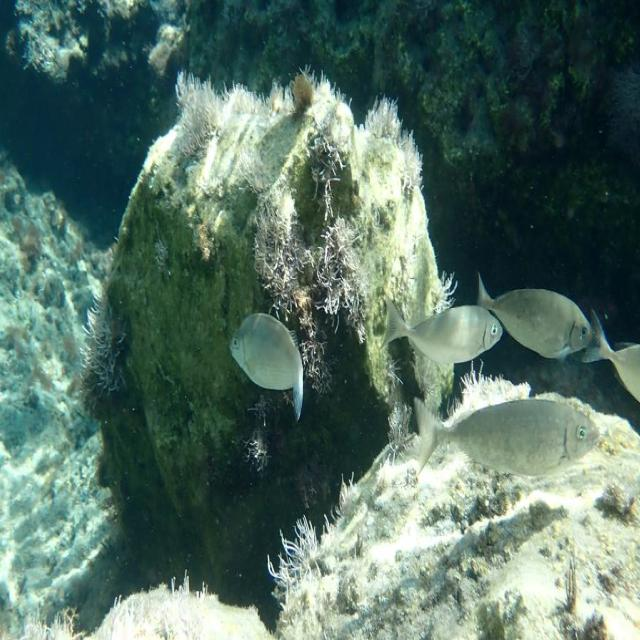Sokar Baligi: (407, 386, 612, 493), (375, 282, 505, 388), (220, 293, 318, 428)
